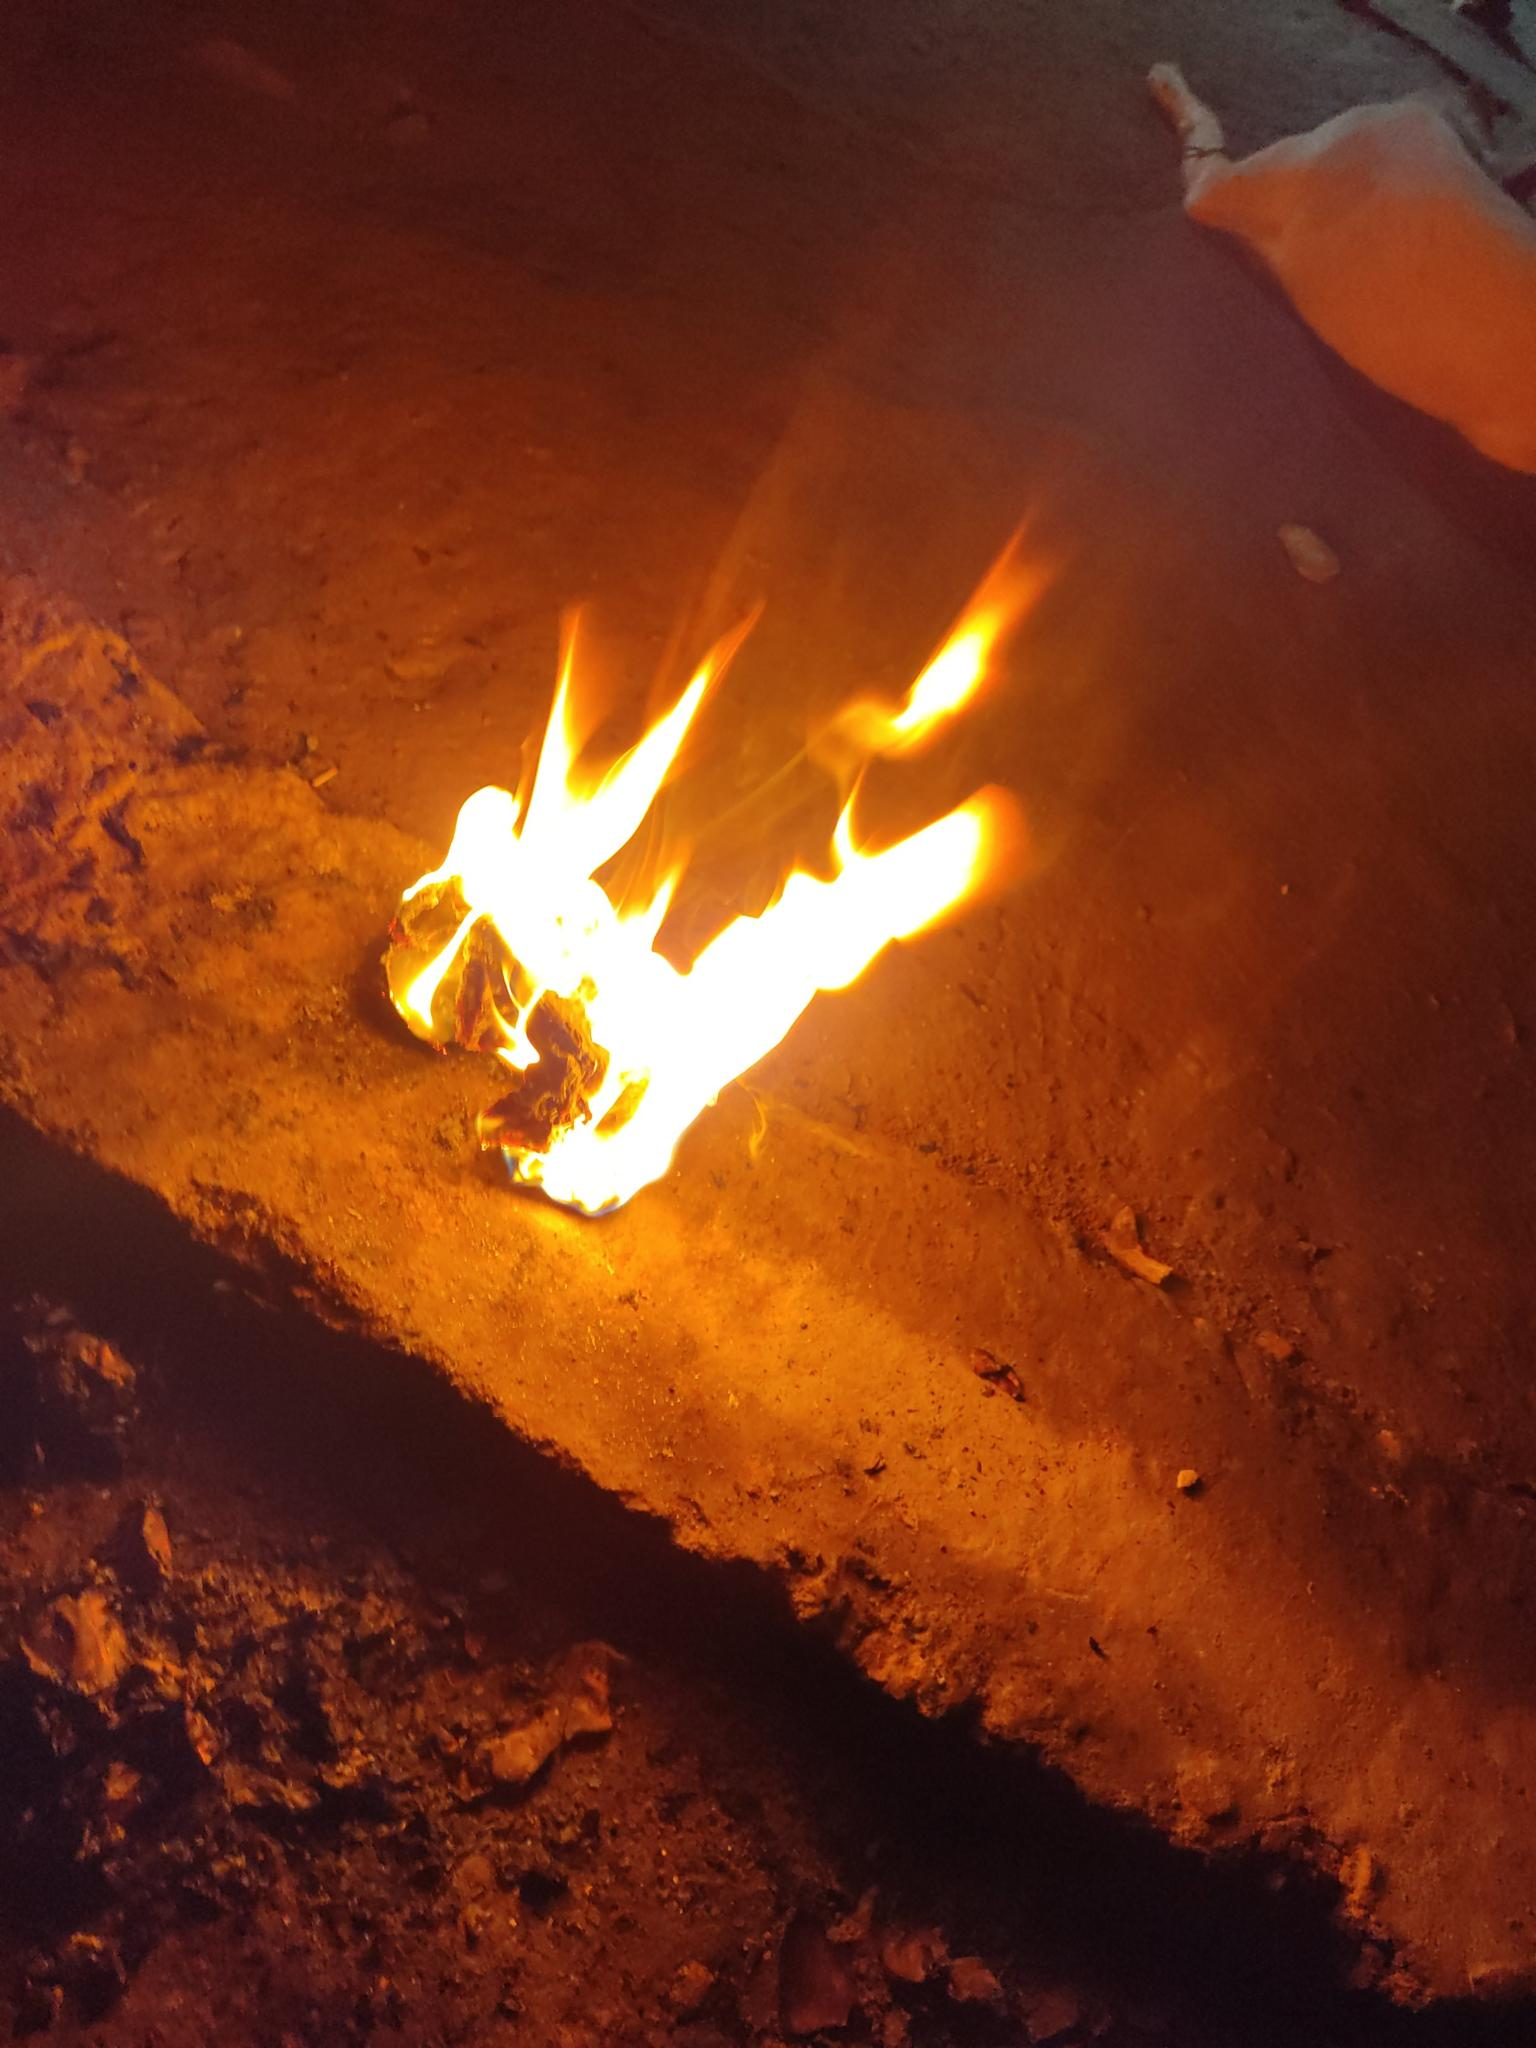Fire: (378, 509, 1069, 1218)
